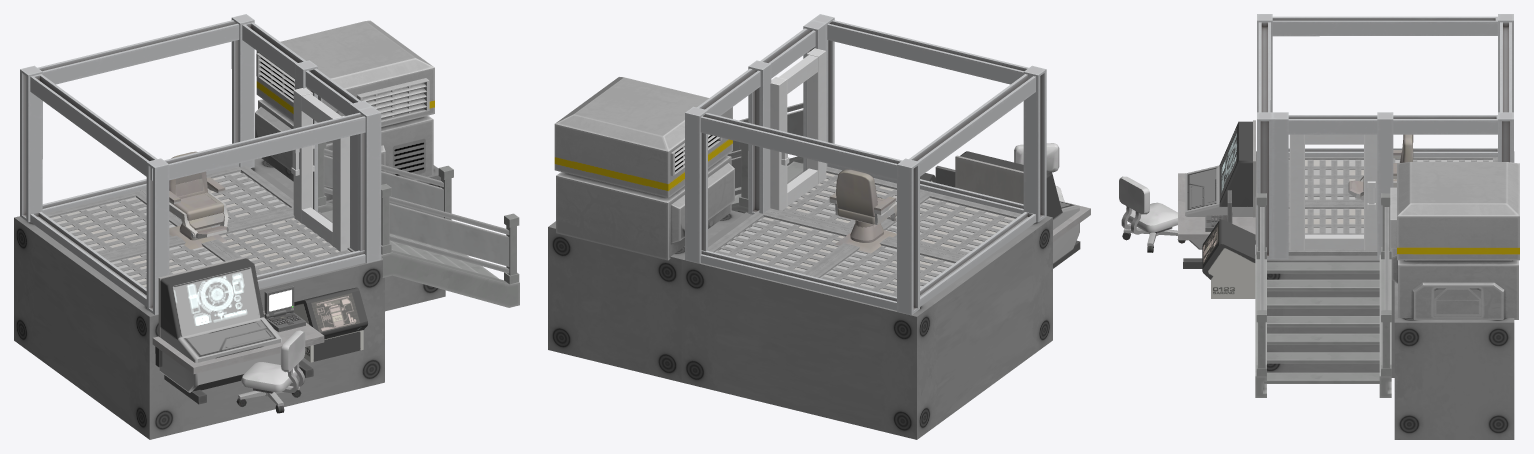
The model's file is Pfb_ObservationDeck_Temp__14.fbx.
3 renders of one model, left to right at view 1: azimuth 30°, elevation 25°; view 2: azimuth 150°, elevation 25°; view 3: azimuth 270°, elevation 25°, orthographic. The views are drawn at different scales.
Visible parts, largest first — view 1: Mat_SteelFrame_01, MAT_ScalableMesh_01, Mat_Ventilation_Soda, Mat_Stairs_Soda, Mat_Network_01_2, MAT_Soda_Instruments_Grey 6, Mat_TS_Metall 2, Mat_Tile_Color_01 7, MAT_Soda_Instruments_Grey 7, Mat_Tile_Color_07 2, Mat_Chair_01, Mat_Table_01 (+2 smaller); view 2: MAT_ScalableMesh_01, Mat_SteelFrame_01, Mat_Ventilation_Soda, Mat_Network_01_2, Mat_TS_Metall 2, Mat_Tile_Color_01 7, Mat_Tile_Color_07 2, Mat_CementMold_1, Mat_Stairs_Soda, MAT_Soda_Instruments_Grey 6, Mat_Table_01, Mat_Chair_01; view 3: MAT_ScalableMesh_01, Mat_Ventilation_Soda, Mat_SteelFrame_01, Mat_Stairs_Soda, Mat_TS_Metall 2, Mat_Network_01_2, MAT_Soda_Instruments_Grey 6, MAT_Soda_Instruments_Grey 7, Mat_Chair_01, Mat_Tile_Color_01 7, Mat_Table_01, Mat_Tile_Color_07 2 (+1 smaller).
Boxes of the visible parts, <box> form: Mat_SteelFrame_01: <box>20,14,381,314</box>; MAT_ScalableMesh_01: <box>14,158,445,439</box>; Mat_Ventilation_Soda: <box>255,20,434,200</box>; Mat_Stairs_Soda: <box>318,142,519,307</box>; Mat_Network_01_2: <box>37,165,354,296</box>; MAT_Soda_Instruments_Grey 6: <box>159,258,282,392</box>; Mat_TS_Metall 2: <box>293,88,349,251</box>; Mat_Tile_Color_01 7: <box>50,172,339,286</box>; MAT_Soda_Instruments_Grey 7: <box>293,287,367,362</box>; Mat_Tile_Color_07 2: <box>169,151,226,249</box>; Mat_Chair_01: <box>236,330,305,413</box>; Mat_Table_01: <box>152,310,324,404</box>; MAT_ScalableMesh_01: <box>548,171,1052,439</box>; Mat_SteelFrame_01: <box>685,14,1046,315</box>; Mat_Ventilation_Soda: <box>554,77,734,260</box>; Mat_Network_01_2: <box>708,166,1028,296</box>; Mat_TS_Metall 2: <box>770,48,826,210</box>; Mat_Tile_Color_01 7: <box>719,173,1014,293</box>; Mat_Tile_Color_07 2: <box>829,169,896,253</box>; Mat_CementMold_1: <box>955,155,1023,204</box>; Mat_Stairs_Soda: <box>727,102,803,213</box>; MAT_Soda_Instruments_Grey 6: <box>960,151,1079,263</box>; Mat_Table_01: <box>1053,201,1090,268</box>; Mat_Chair_01: <box>1014,143,1064,201</box>; MAT_ScalableMesh_01: <box>1255,151,1514,439</box>; Mat_Ventilation_Soda: <box>1390,162,1519,319</box>; Mat_SteelFrame_01: <box>1257,14,1513,259</box>; Mat_Stairs_Soda: <box>1255,193,1391,397</box>; Mat_TS_Metall 2: <box>1289,134,1377,250</box>; Mat_Network_01_2: <box>1288,157,1497,255</box>; MAT_Soda_Instruments_Grey 6: <box>1185,121,1252,249</box>; MAT_Soda_Instruments_Grey 7: <box>1202,219,1255,298</box>; Mat_Chair_01: <box>1119,176,1185,252</box>; Mat_Tile_Color_01 7: <box>1305,160,1492,233</box>; Mat_Table_01: <box>1178,173,1255,268</box>; Mat_Tile_Color_07 2: <box>1349,134,1413,194</box>.
Bounding box in the file's own units: 6.29 × 4.39 × 6.2.
Materials: 16 (16 with a texture image).
